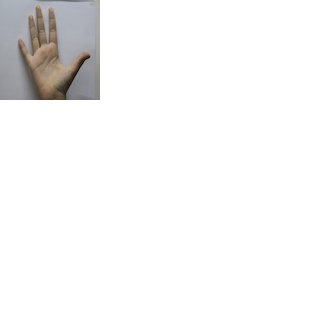paper: (9, 0, 90, 99)
